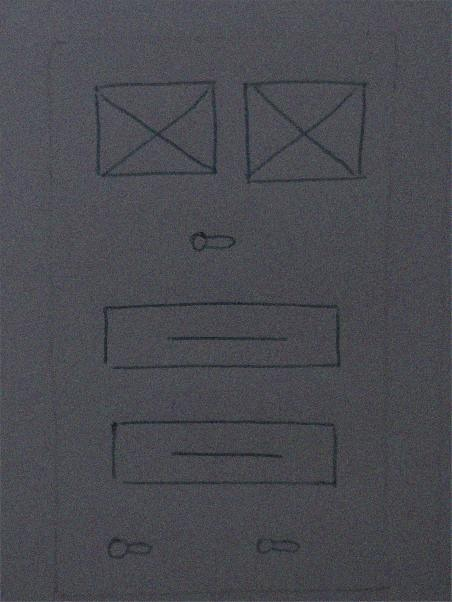button: (92, 288, 355, 385), (96, 411, 361, 499)
image: (237, 77, 377, 188), (85, 76, 231, 181)
switch: (178, 220, 250, 266), (95, 527, 169, 567), (240, 527, 315, 566)
